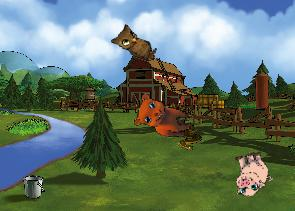bear: (133, 92, 194, 138)
owl: (109, 21, 162, 62)
pig: (227, 148, 274, 198)
